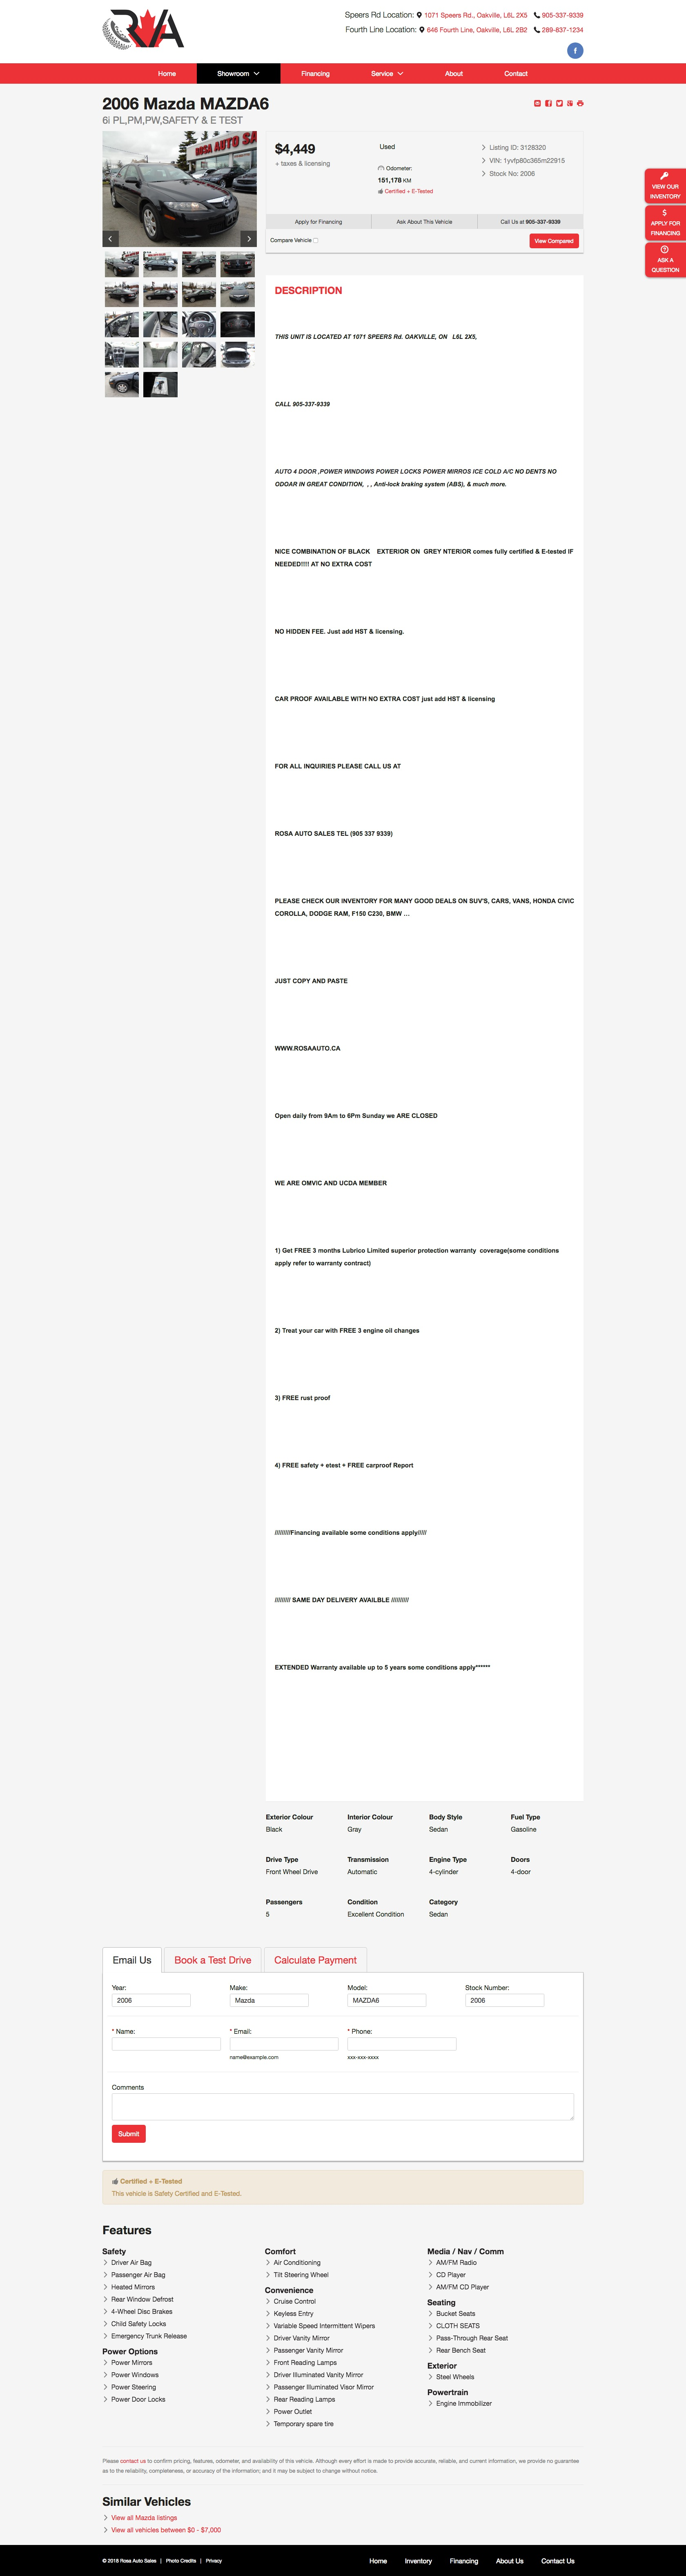car: (241, 230, 258, 248)
